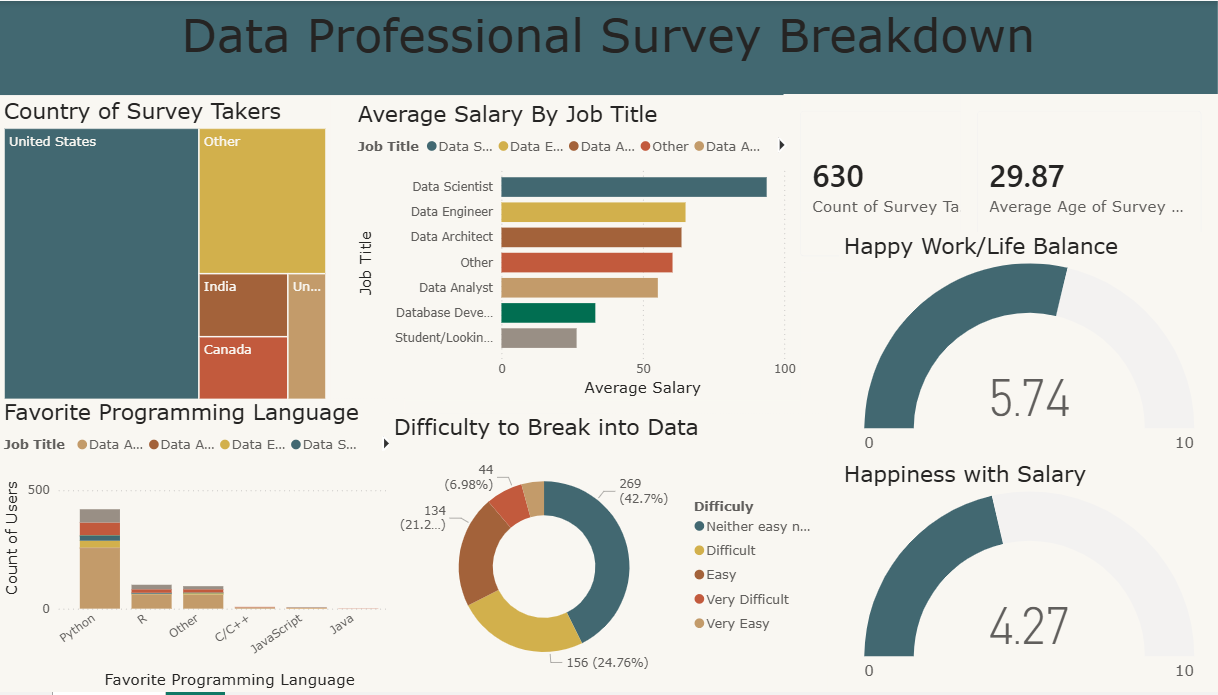

The page's visual inventory and layout, read from the dashboard file:
{"tool":"powerbi","page":{"name":"Page 1","canvas":[1280,720],"ordinal":0},"visuals":[{"type":"textbox","box":[9.4,0,1269.9,98.3],"z":0},{"type":"cardVisual","fields":{"Data":["Count(Data Professional Survey.Unique ID)"]},"box":[827.1,97,227.5,186.1],"z":1},{"type":"cardVisual","fields":{"Data":["Avg(Data Professional Survey.Q10 - Current Age)"]},"box":[1011.6,97,268.8,186.1],"z":2},{"type":"barChart","title":"Average Salary By Job Title","fields":{"Category":["Data Professional Survey.Q1 - Which Title Best Fits your Current Role?.1"],"Y":["Avg(Data Professional Survey.Average Salary)"],"Series":["Data Professional Survey.Q1 - Which Title Best Fits your Current Role?.1"]},"box":[378.6,103.4,466,313.4],"z":3},{"type":"columnChart","title":"Favorite Programming Language","fields":{"Category":["Data Professional Survey.Q5 - Favorite Programming Language.1"],"Y":["CountNonNull(Data Professional Survey.Unique ID)"],"Series":["Data Professional Survey.Q1 - Which Title Best Fits your Current Role?.1"]},"box":[9.2,413.6,422.8,307],"z":4},{"type":"treemap","title":"Country of Survey Takers","fields":{"Group":["Data Professional Survey.Q11 - Which Country do you live in?.1"],"Values":["Sum(Data Professional Survey.Average Salary)"]},"box":[9.5,100.2,345.2,319.7],"z":5},{"type":"gauge","title":"Happiness with Salary","fields":{"Y":["Avg(Data Professional Survey.Q6 - How Happy are you in your Current Position with the following? (Salary))"],"MinValue":["Min(Data Professional Survey.Q6 - How Happy are you in your Current Position with the following? (Salary))"],"MaxValue":["Max(Data Professional Survey.Q6 - How Happy are you in your Current Position with the following? (Salary))"]},"box":[884.4,478.8,396.1,238.6],"z":6},{"type":"gauge","title":"Happy  Work/Life Balance","fields":{"Y":["Avg(Data Professional Survey.Q6 - How Happy are you in your Current Position with the following? (Work/Life Balance))"],"MinValue":["Min(Data Professional Survey.Q6 - How Happy are you in your Current Position with the following? (Work/Life Balance))"],"MaxValue":["Max(Data Professional Survey.Q6 - How Happy are you in your Current Position with the following? (Work/Life Balance))1"]},"box":[884.4,240.2,396.1,238.6],"z":7},{"type":"donutChart","title":"Difficulty to Break into Data","fields":{"Category":["Data Professional Survey.Q7 - How difficult was it for you to break into Data?"],"Y":["CountNonNull(Data Professional Survey.Q7 - How difficult was it for you to break into Data?)"]},"box":[415.1,429.5,456.5,291.1],"z":8}]}

Visuals, with their boxes in screenshot pixels (x1, y1, x2, y2), scaled from the page's 1280x720 canvas onto the 1218x695 screenshot:
textbox: box=[9, 0, 1217, 95]
cardVisual - Count(Data Professional Survey.Unique ID): box=[787, 94, 1004, 273]
cardVisual - Avg(Data Professional Survey.Q10 - Current Age): box=[963, 94, 1217, 273]
"Average Salary By Job Title" barChart: box=[360, 100, 804, 402]
"Favorite Programming Language" columnChart: box=[9, 399, 411, 694]
"Country of Survey Takers" treemap: box=[9, 97, 338, 405]
"Happiness with Salary" gauge: box=[842, 462, 1217, 692]
"Happy  Work/Life Balance" gauge: box=[842, 232, 1217, 462]
"Difficulty to Break into Data" donutChart: box=[395, 415, 829, 694]
